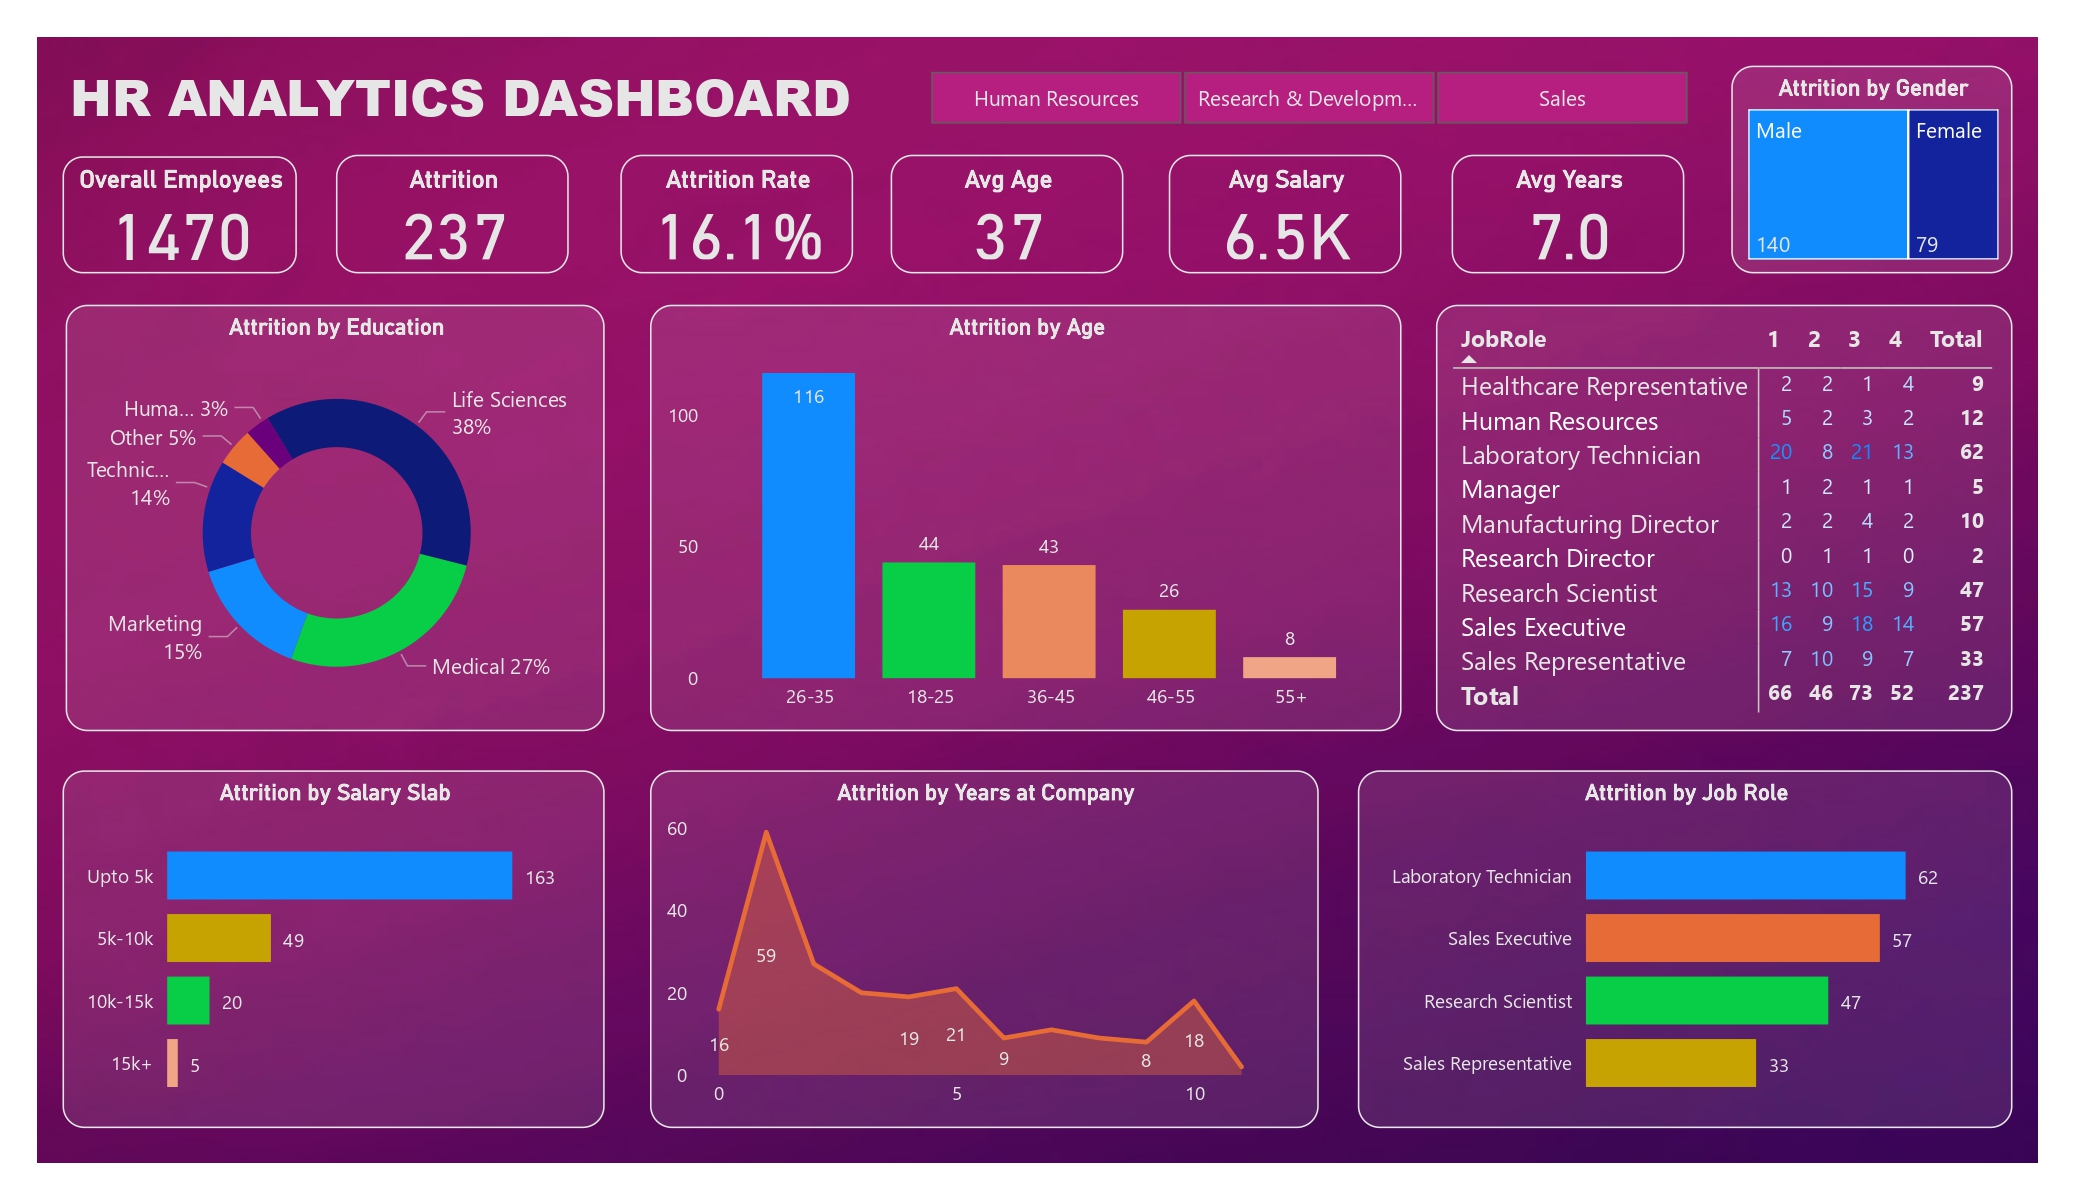

Layout of this report page (visuals, bound fields, positions):
{"tool":"powerbi","page":{"name":"Page 1","canvas":[1280,720],"ordinal":0},"visuals":[{"type":"card","title":"Overall Employees","fields":{"Values":["CountNonNull(HR_Analytics.EmpID)"]},"box":[16.5,76,149.4,75.4],"z":0},{"type":"card","title":"Attrition","fields":{"Values":["Sum(HR_Analytics.AttritionCount)"]},"box":[190.6,75.4,149.4,75.4],"z":1000},{"type":"card","title":"Attrition Rate","fields":{"Values":["HR_Analytics.AttritionRate"]},"box":[372.9,75.4,149.4,75.4],"z":2000},{"type":"card","title":"Avg Age","fields":{"Values":["Avg(HR_Analytics.Age)"]},"box":[545.7,75.4,149.4,75.4],"z":3000},{"type":"card","title":"Avg Salary","fields":{"Values":["Avg(HR_Analytics.MonthlyIncome)"]},"box":[723.9,75.4,149.4,75.4],"z":4000},{"type":"card","title":"Avg Years","fields":{"Values":["Avg(HR_Analytics.YearsAtCompany)"]},"box":[904.9,75.4,149.4,75.4],"z":5000},{"type":"donutChart","title":"Attrition by Education","fields":{"Category":["HR_Analytics.EducationField"],"Y":["Sum(HR_Analytics.AttritionCount)"]},"box":[17.8,171.4,345.5,272.8],"z":6000},{"type":"columnChart","title":"Attrition by Age","fields":{"Category":["HR_Analytics.AgeGroup"],"Y":["Sum(HR_Analytics.AttritionCount)"]},"box":[392.1,171.4,481.2,272.8],"z":7000},{"type":"pivotTable","fields":{"Rows":["HR_Analytics.JobRole"],"Columns":["HR_Analytics.JobSatisfaction"],"Values":["Sum(HR_Analytics.AttritionCount)"]},"box":[895.3,171.4,368.8,272.8],"z":8000},{"type":"barChart","title":"Attrition by Salary Slab","fields":{"Category":["HR_Analytics.SalarySlab"],"Y":["Sum(HR_Analytics.AttritionCount)"]},"box":[16.5,468.9,346.9,229],"z":9000},{"type":"barChart","title":"Attrition by Job Role","fields":{"Category":["HR_Analytics.JobRole"],"Y":["Sum(HR_Analytics.AttritionCount)"]},"box":[844.6,468.9,419.5,229],"z":10000},{"type":"stackedAreaChart","title":"Attrition by Years at Company","fields":{"Category":["HR_Analytics.YearsAtCompany"],"Y":["Sum(HR_Analytics.AttritionCount)"]},"box":[392.1,468.9,427.8,229],"z":11000},{"type":"treemap","title":"Attrition by Gender","fields":{"Group":["HR_Analytics.Gender"],"Values":["Sum(HR_Analytics.AttritionCount)"]},"box":[1084.5,17.8,179.6,133],"z":12000},{"type":"slicer","fields":{"Values":["HR_Analytics.Department"]},"box":[545.7,15.1,534.7,46.6],"z":13000},{"type":"textbox","box":[16.5,9.6,519.6,56.2],"z":14000}]}

Visuals, with their boxes in screenshot pixels (x1, y1, x2, y2):
"Overall Employees" card: <bbox>63, 156, 297, 274</bbox>
"Attrition" card: <bbox>335, 155, 569, 273</bbox>
"Attrition Rate" card: <bbox>620, 155, 854, 273</bbox>
"Avg Age" card: <bbox>890, 155, 1124, 273</bbox>
"Avg Salary" card: <bbox>1169, 155, 1402, 273</bbox>
"Avg Years" card: <bbox>1451, 155, 1685, 273</bbox>
"Attrition by Education" donutChart: <bbox>65, 305, 605, 732</bbox>
"Attrition by Age" columnChart: <bbox>650, 305, 1402, 732</bbox>
pivotTable - HR_Analytics.JobRole x HR_Analytics.JobSatisfaction: <bbox>1436, 305, 2013, 732</bbox>
"Attrition by Salary Slab" barChart: <bbox>63, 770, 605, 1128</bbox>
"Attrition by Job Role" barChart: <bbox>1357, 770, 2013, 1128</bbox>
"Attrition by Years at Company" stackedAreaChart: <bbox>650, 770, 1319, 1128</bbox>
"Attrition by Gender" treemap: <bbox>1732, 65, 2013, 273</bbox>
slicer - HR_Analytics.Department: <bbox>890, 61, 1726, 134</bbox>
textbox: <bbox>63, 52, 875, 140</bbox>
